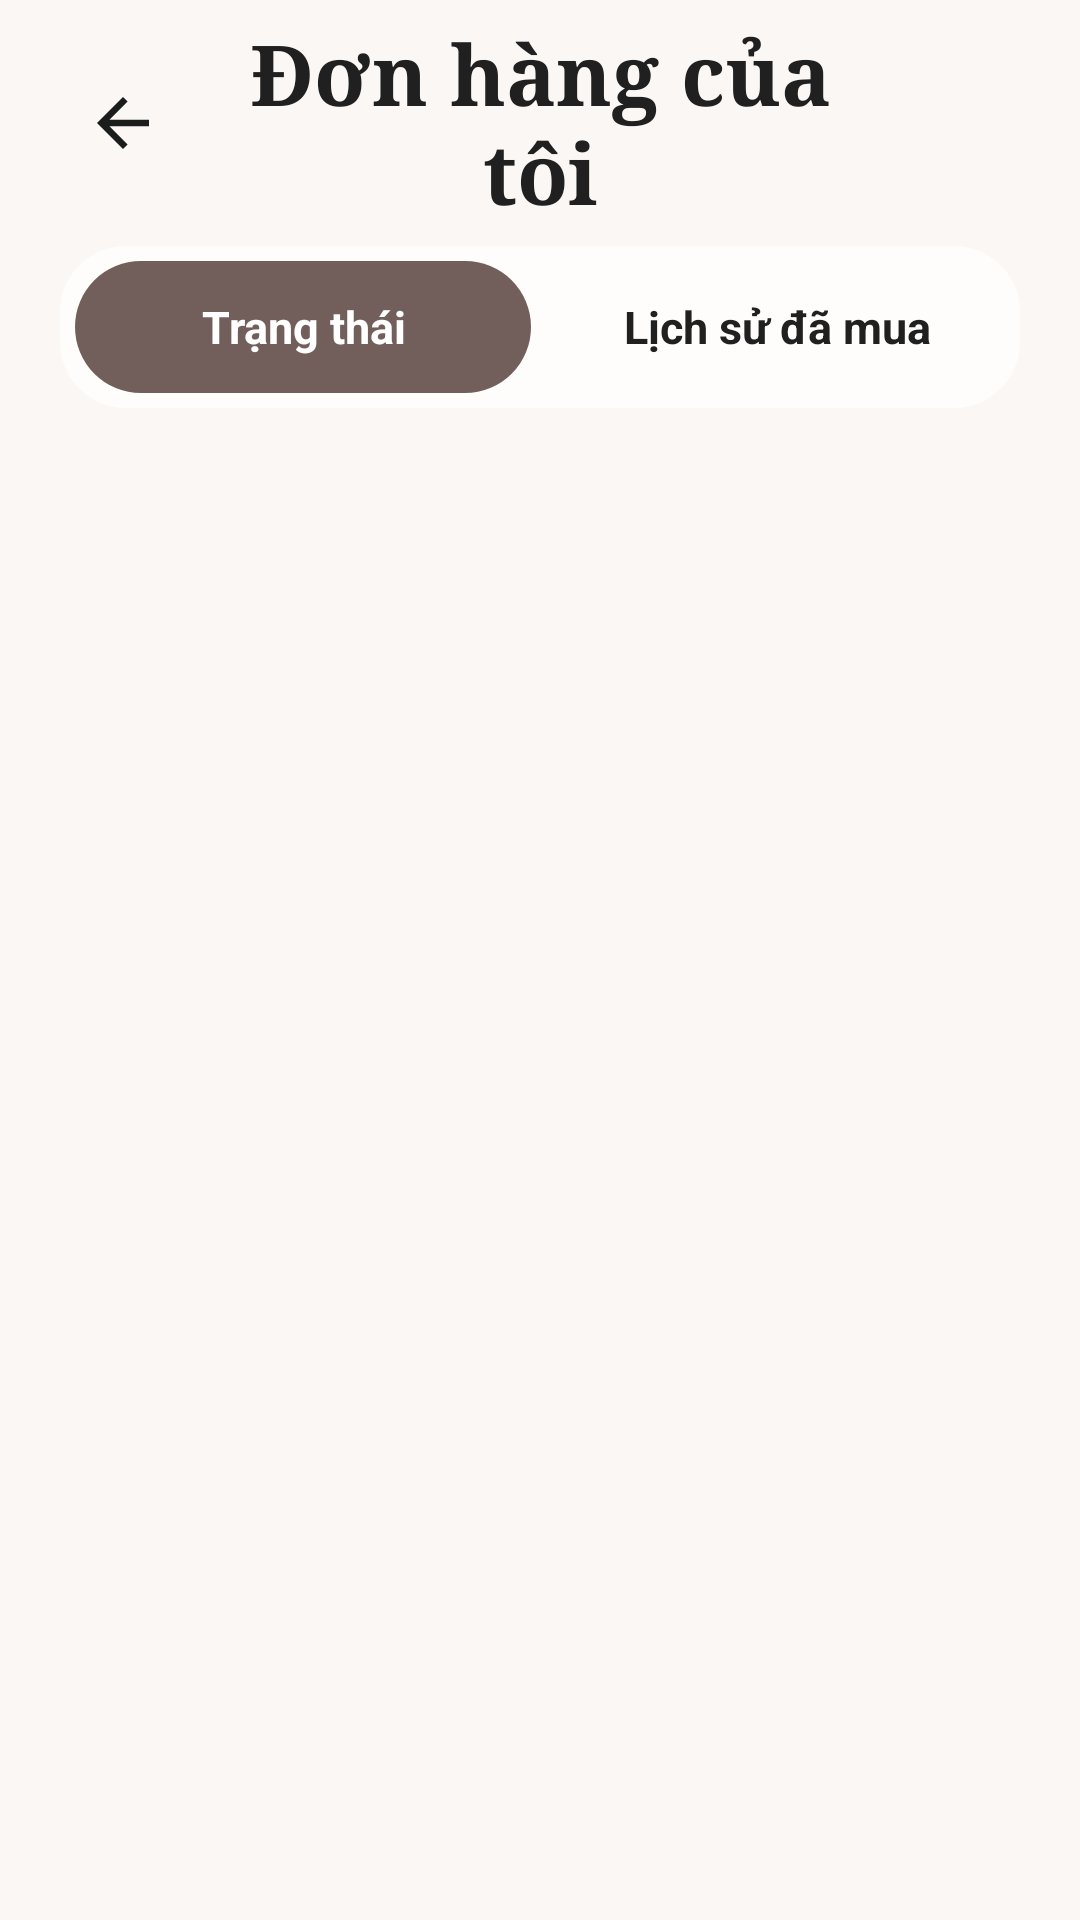

Screen size 1080px×1920px. Icon name, then its center in pixels as point (x, y):
arrow back: point (123, 123)
